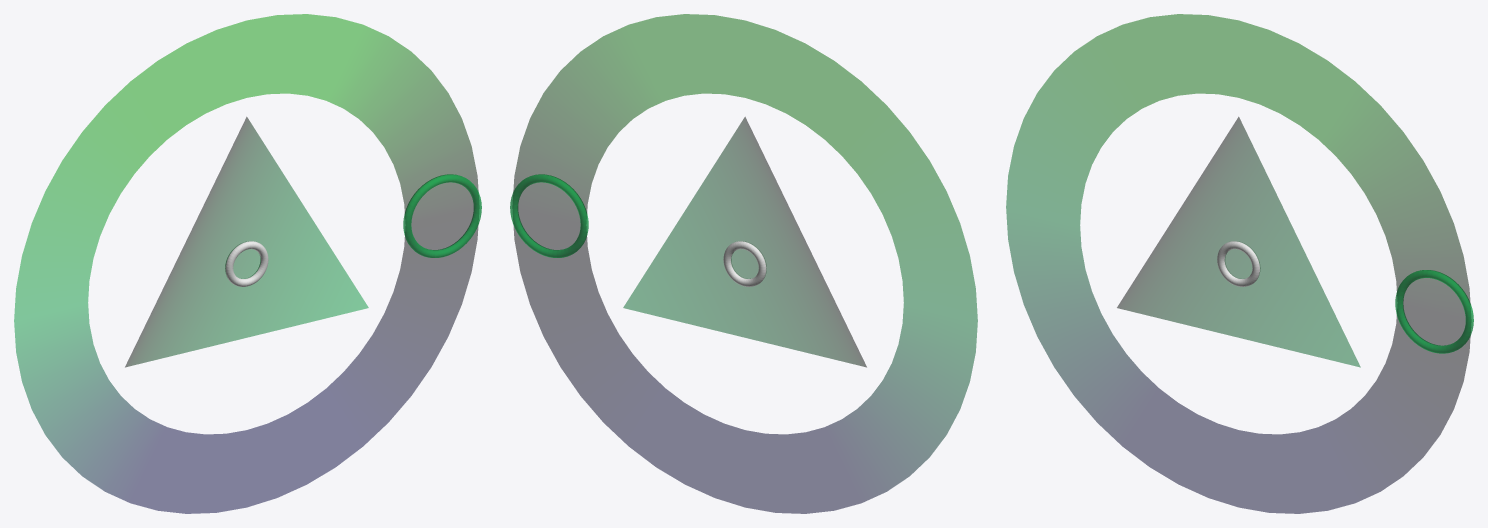
The model's file is ColorPicker.fbx.
The picture shows the model from 3 angles, left to right: view 1: azimuth 30°, elevation 25°; view 2: azimuth 150°, elevation 25°; view 3: azimuth 330°, elevation 25°; orthographic projection.
Visible parts, largest first — view 1: ColorCircle, ColorTriangle, PointerMain, PointerColor; view 2: ColorCircle, ColorTriangle, PointerMain, PointerColor; view 3: ColorCircle, ColorTriangle, PointerMain, PointerColor.
Boxes of the visible parts, bbox=[...] form: ColorCircle: bbox=[14, 14, 479, 513]; ColorTriangle: bbox=[125, 117, 368, 367]; PointerMain: bbox=[403, 174, 481, 257]; PointerColor: bbox=[225, 241, 268, 286]; ColorCircle: bbox=[512, 14, 977, 513]; ColorTriangle: bbox=[623, 117, 866, 367]; PointerMain: bbox=[510, 174, 588, 257]; PointerColor: bbox=[723, 241, 766, 286]; ColorCircle: bbox=[1006, 14, 1471, 513]; ColorTriangle: bbox=[1117, 117, 1360, 367]; PointerMain: bbox=[1395, 270, 1473, 353]; PointerColor: bbox=[1217, 241, 1260, 286].
Bounding box in the file's own units: 132 × 132 × 2.
